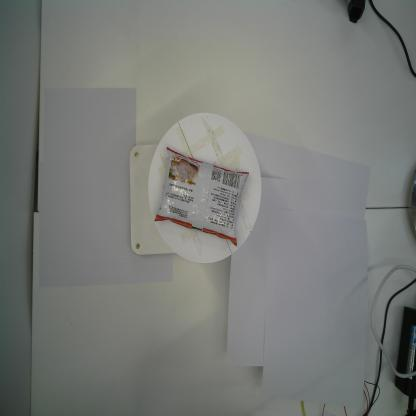Seasoner: (152, 143, 249, 254)
